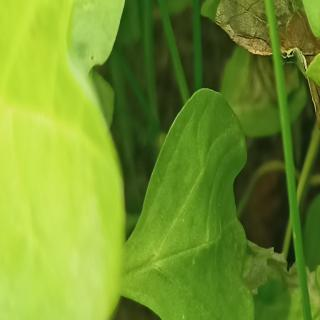virus_keriting: (152, 84, 272, 320)
